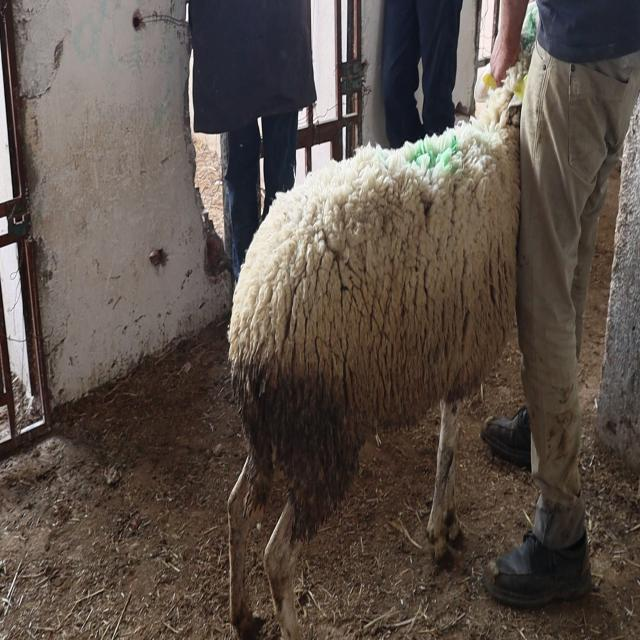Score_3: (228, 5, 539, 639)
